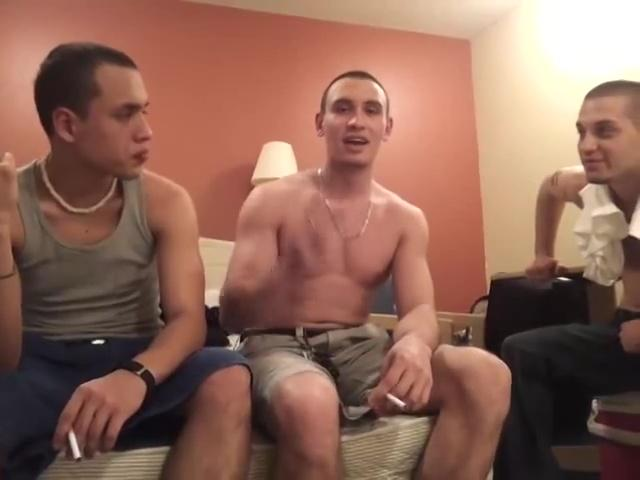cigarette: (65, 424, 84, 467), (383, 391, 412, 410)
